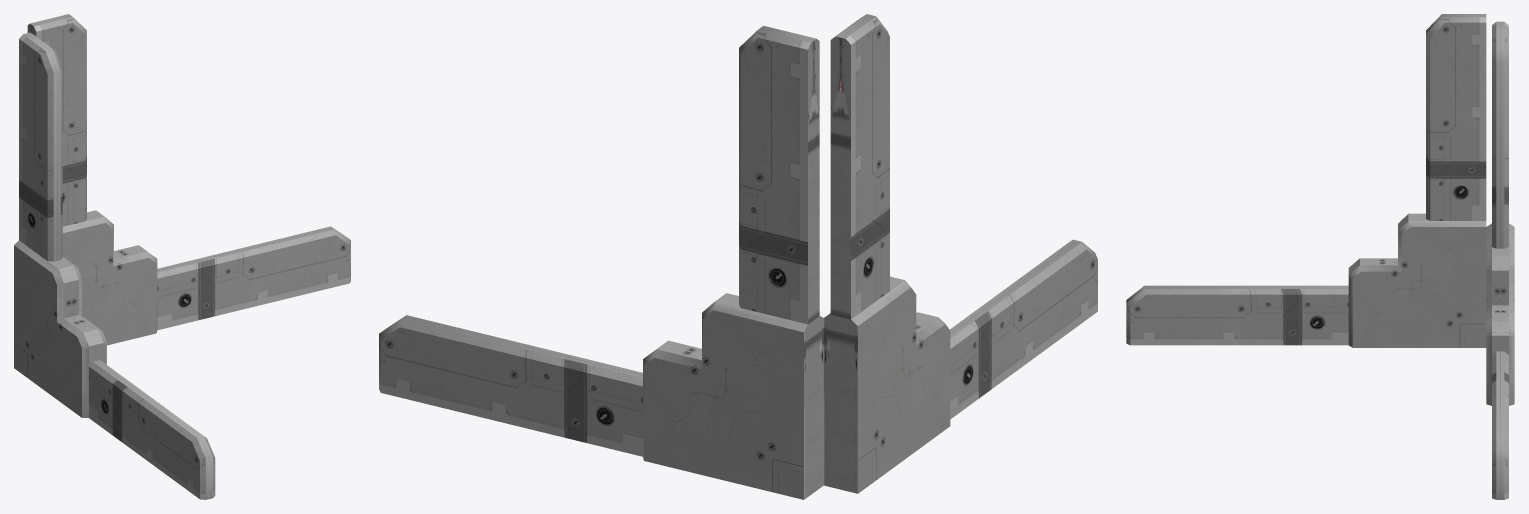
The model's file is SM_SAngle02.fbx.
3 renders of one model, left to right at view 1: azimuth 30°, elevation 25°; view 2: azimuth 150°, elevation 25°; view 3: azimuth 270°, elevation 25°, orthographic. The views are drawn at different scales.
Parts seen in each view (by area): view 1: SM_SAngle02_LOD0; view 2: SM_SAngle02_LOD0; view 3: SM_SAngle02_LOD0.
Boxes of the visible parts, <box> form: SM_SAngle02_LOD0: <box>14,14,350,499</box>; SM_SAngle02_LOD0: <box>379,14,1097,499</box>; SM_SAngle02_LOD0: <box>1126,14,1514,499</box>.
Bounding box in the file's own units: 341 × 341 × 316.
1 material, 1 textured.
